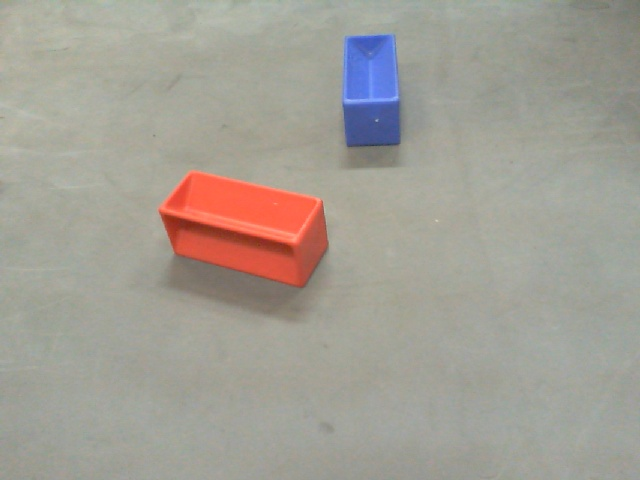BlueSample: (339, 35, 404, 150)
RedSample: (155, 168, 330, 288)
